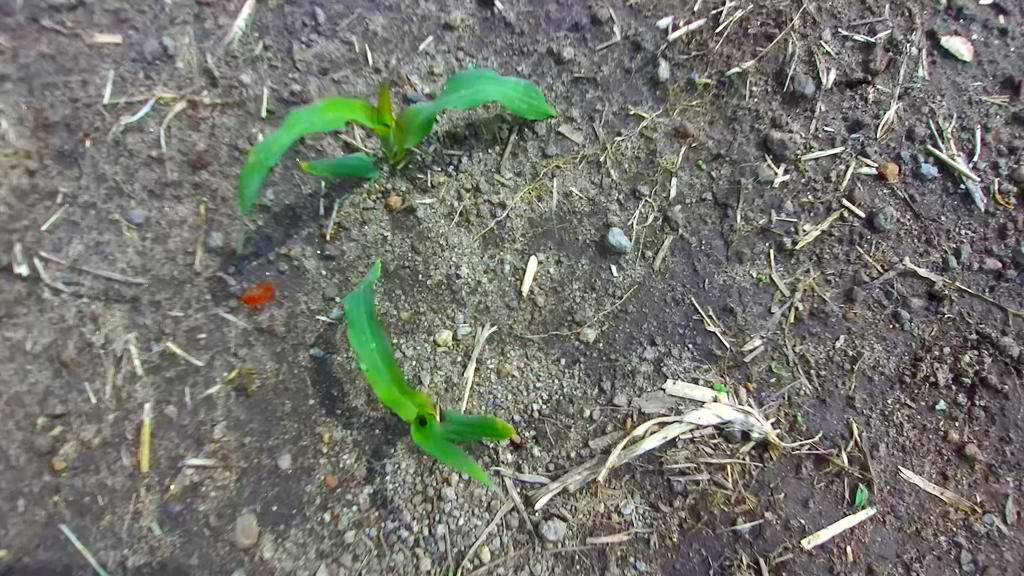BroWeed: (240, 277, 280, 313), (982, 175, 1015, 216), (239, 363, 271, 392), (248, 120, 277, 148), (916, 162, 942, 182), (747, 265, 771, 286), (655, 56, 673, 84), (879, 160, 900, 182), (790, 413, 810, 436), (854, 482, 870, 510), (829, 330, 850, 351), (222, 365, 240, 387), (316, 425, 333, 446), (999, 180, 1019, 197), (819, 26, 837, 44), (196, 202, 208, 224), (694, 157, 710, 172), (827, 455, 844, 469), (854, 166, 878, 175), (935, 398, 949, 411), (935, 0, 949, 10), (712, 382, 725, 391)
Maize: (215, 25, 558, 224), (310, 256, 545, 523)
